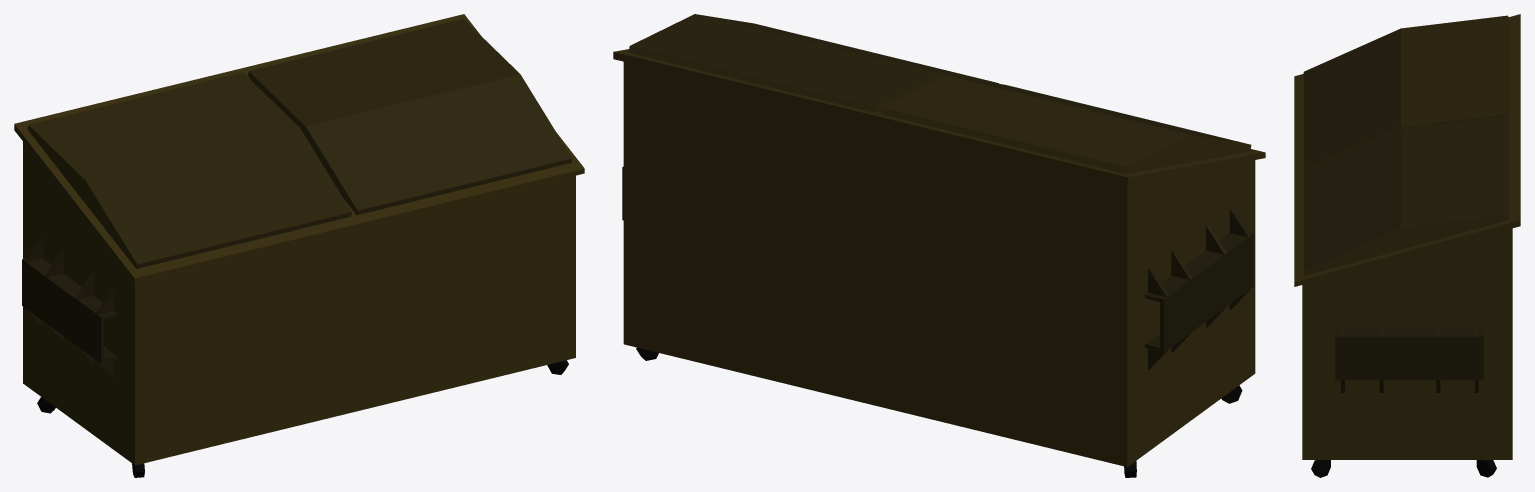
File: SM_trashcontainer.FBX
3 renders of one model, left to right at view 1: azimuth 30°, elevation 25°; view 2: azimuth 150°, elevation 25°; view 3: azimuth 270°, elevation 25°, orthographic. The views are drawn at different scales.
Parts seen in each view (by area): view 1: trashcontainer; view 2: trashcontainer; view 3: trashcontainer.
Part boxes in pixels (x1=…): trashcontainer: x1=14, y1=14, x2=584, y2=477; trashcontainer: x1=613, y1=14, x2=1265, y2=477; trashcontainer: x1=1294, y1=14, x2=1520, y2=477.
Size of the model in its own units: 269 by 152 by 118.
